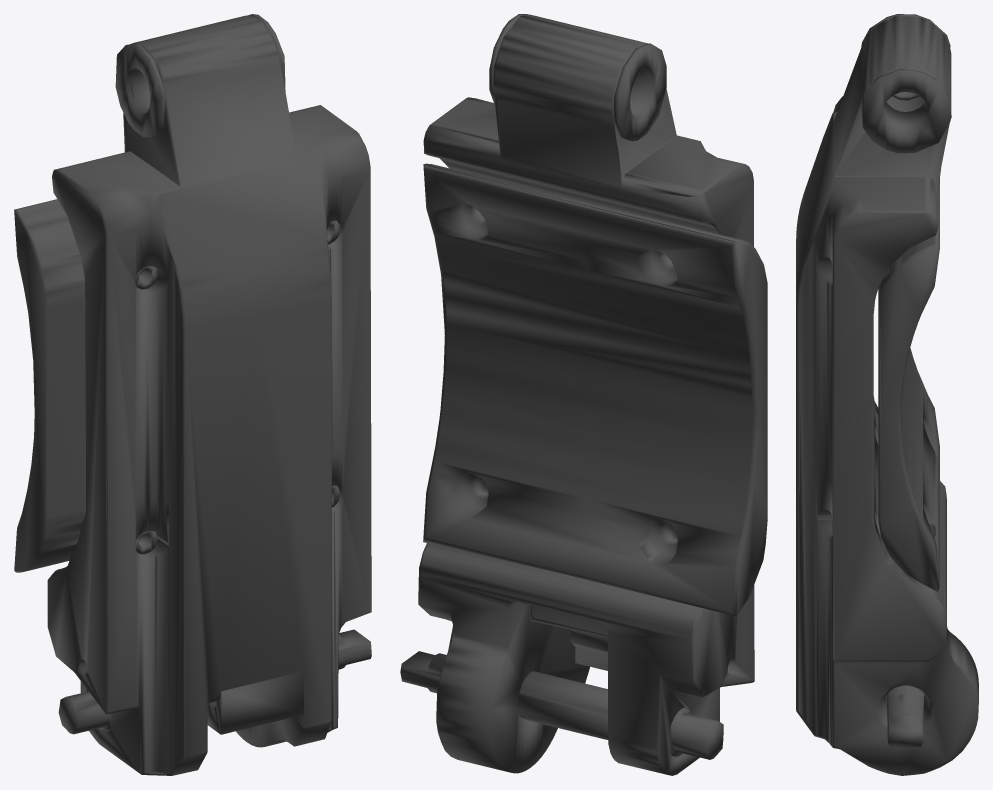
The model's file is l_proximal.dae.
3 views of the same model, side by side, from view 1: azimuth 30°, elevation 25°; view 2: azimuth 150°, elevation 25°; view 3: azimuth 270°, elevation 25° (orthographic). The views are drawn at different scales.
Parts seen in each view (by area): view 1: Left_Proximal; view 2: Left_Proximal; view 3: Left_Proximal.
Boxes of the visible parts, bbox=[...] form: Left_Proximal: bbox=[14, 14, 371, 775]; Left_Proximal: bbox=[400, 14, 767, 775]; Left_Proximal: bbox=[796, 14, 978, 775].
Bounding box in the file's own units: 0.0401 × 0.02 × 0.083.
Materials: 1 (1 with a texture image).
